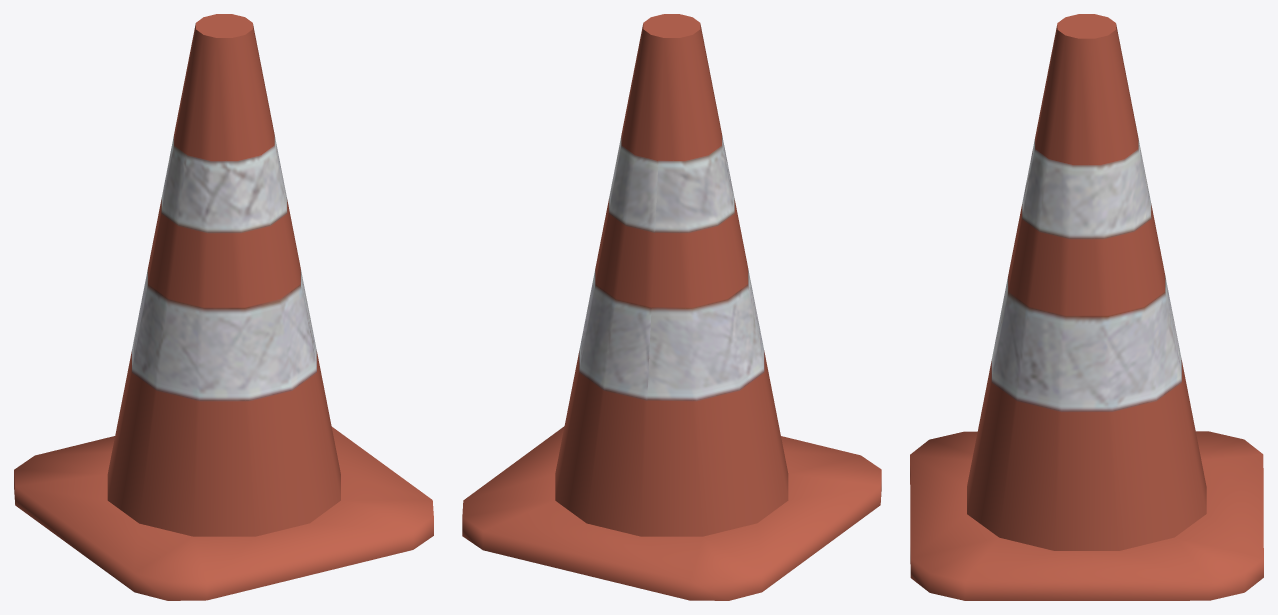
File: Traffic_Cone_Small.fbx
The picture shows the model from 3 angles, left to right: view 1: azimuth 30°, elevation 25°; view 2: azimuth 150°, elevation 25°; view 3: azimuth 270°, elevation 25°; orthographic projection. The views are drawn at different scales.
Parts seen in each view (by area): view 1: Traffic_Cone_Small; view 2: Traffic_Cone_Small; view 3: Traffic_Cone_Small.
Boxes of the visible parts, x1=… form: Traffic_Cone_Small: x1=14, y1=14, x2=433, y2=600; Traffic_Cone_Small: x1=462, y1=14, x2=881, y2=600; Traffic_Cone_Small: x1=910, y1=14, x2=1263, y2=600.
Bounding box in the file's own units: 0.289 × 0.4492 × 0.2882.
